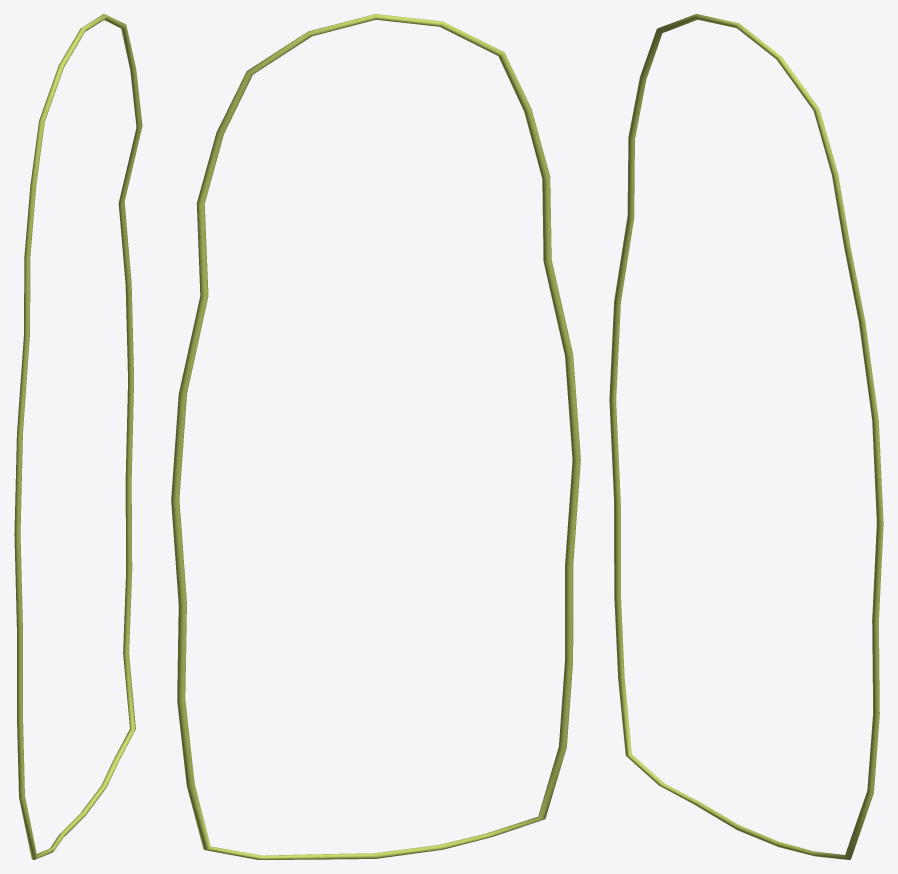
File: Rope.obj
The picture shows the model from 3 angles, left to right: view 1: azimuth 30°, elevation 25°; view 2: azimuth 150°, elevation 25°; view 3: azimuth 270°, elevation 25°; orthographic projection. The views are drawn at different scales.
Visible parts, largest first — view 1: Ellipse001; view 2: Ellipse001; view 3: Ellipse001.
Boxes of the visible parts, x1,y1,x2,y2 form: Ellipse001: [14, 14, 142, 859]; Ellipse001: [171, 14, 580, 859]; Ellipse001: [609, 14, 883, 859].
Size of the model in its own units: 291 by 875 by 270.
